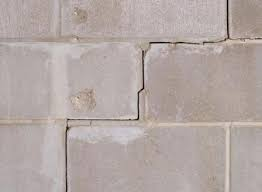stairstep_crack: (62, 0, 230, 191)
